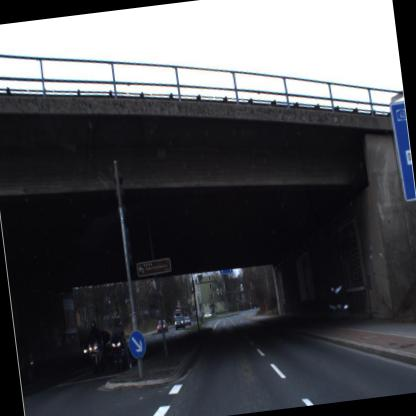mandatory: (124, 326, 148, 360)
